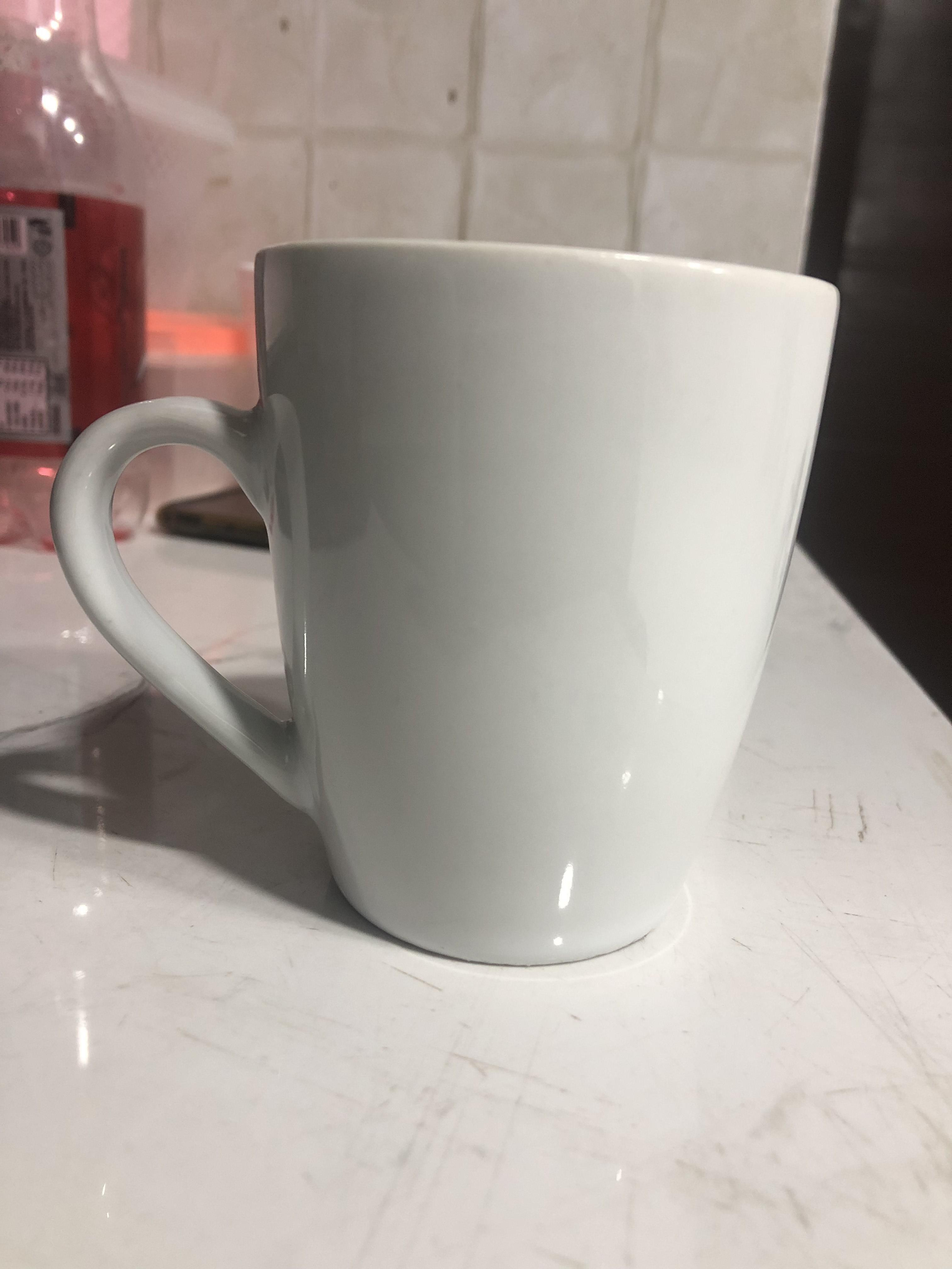bottle-plastic: (0, 0, 165, 557)
cup-handle: (49, 237, 845, 968)
